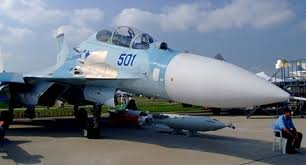maybay_muctieu: (11, 23, 299, 132)
